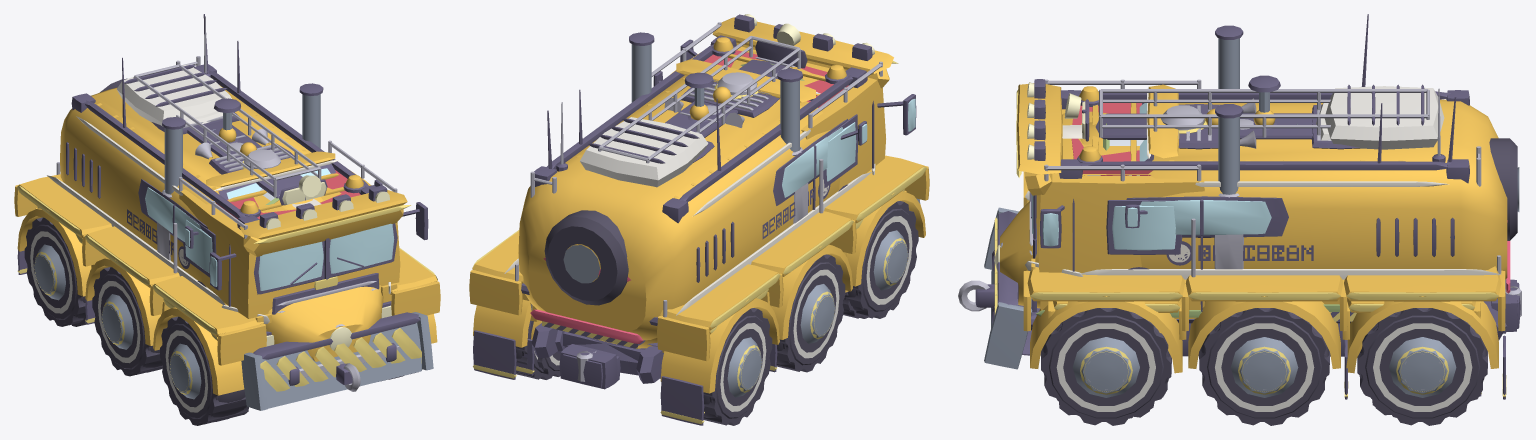
Rendered from landtrain.glb.
3 views of the same model, side by side, from view 1: azimuth 30°, elevation 25°; view 2: azimuth 150°, elevation 25°; view 3: azimuth 270°, elevation 25° (orthographic). The views are drawn at different scales.
Parts seen in each view (by area): view 1: moonliner_hull, prospector, moonliner, prospector_cab, prospector_blade, moonliner_acPod, prospector_visor, prospector_screen1, prospector_screen-1, prospector_cabCorner, moonliner_wheel0_-1_tyre, prospector_bladeTop (+55 smaller); view 2: moonliner_hull, prospector, moonliner, prospector_spare, moonliner_acPod, prospector_cab, prospector_visor, prospector_fender-1_2_lip-1, prospector_fender1_2_lip-1, prospector_blast_roofRail-1, prospector_flap1_-2.9, prospector_flap-1_-2.9 (+50 smaller); view 3: moonliner_hull, moonliner, prospector, prospector_cab, moonliner_acPod, moonliner_wheel1_1_tyre, moonliner_wheel0_1_tyre, moonliner_wheel2_1_tyre, prospector_wheel0_1_tyre, prospector_wheel1_1_tyre, prospector_wheel2_1_tyre, moonliner_sideWin1 (+42 smaller).
Part boxes in pixels (x1,y1,x2,y2): moonliner_hull: (60,85,383,361); prospector: (17,174,437,337); moonliner: (17,142,437,395); prospector_cab: (179,171,400,318); prospector_blade: (262,323,422,408); moonliner_acPod: (116,64,231,126); prospector_visor: (239,190,407,239); prospector_screen1: (329,223,394,273); prospector_screen-1: (258,241,323,290); prospector_cabCorner: (243,209,403,256); moonliner_wheel0_-1_tyre: (163,326,245,421); prospector_bladeTop: (253,312,420,359); moonliner_hull: (518,75,840,340); prospector: (472,147,926,330); moonliner: (473,191,925,393); prospector_spare: (544,210,628,305); moonliner_acPod: (580,117,708,187); prospector_cab: (670,46,885,190); prospector_visor: (712,17,893,74); prospector_fender-1_2_lip-1: (657,315,710,360); prospector_fender1_2_lip-1: (469,270,522,315); prospector_blast_roofRail-1: (679,75,853,201); prospector_flap1_-2.9: (473,330,516,379); prospector_flap-1_-2.9: (660,376,704,425); moonliner_hull: (1000,99,1507,308); moonliner: (1030,217,1498,368); prospector: (1027,193,1501,301); prospector_cab: (1036,109,1204,318); moonliner_acPod: (1324,86,1444,149); moonliner_wheel1_1_tyre: (1199,308,1329,416); moonliner_wheel0_1_tyre: (1041,308,1171,416); moonliner_wheel2_1_tyre: (1357,308,1487,416); prospector_wheel0_1_tyre: (1046,309,1166,418); prospector_wheel1_1_tyre: (1204,309,1325,418); prospector_wheel2_1_tyre: (1362,309,1483,418); moonliner_sideWin1: (1140,200,1271,235).
Size of the model in its own units: 5.77 by 6.4 by 10.34.
